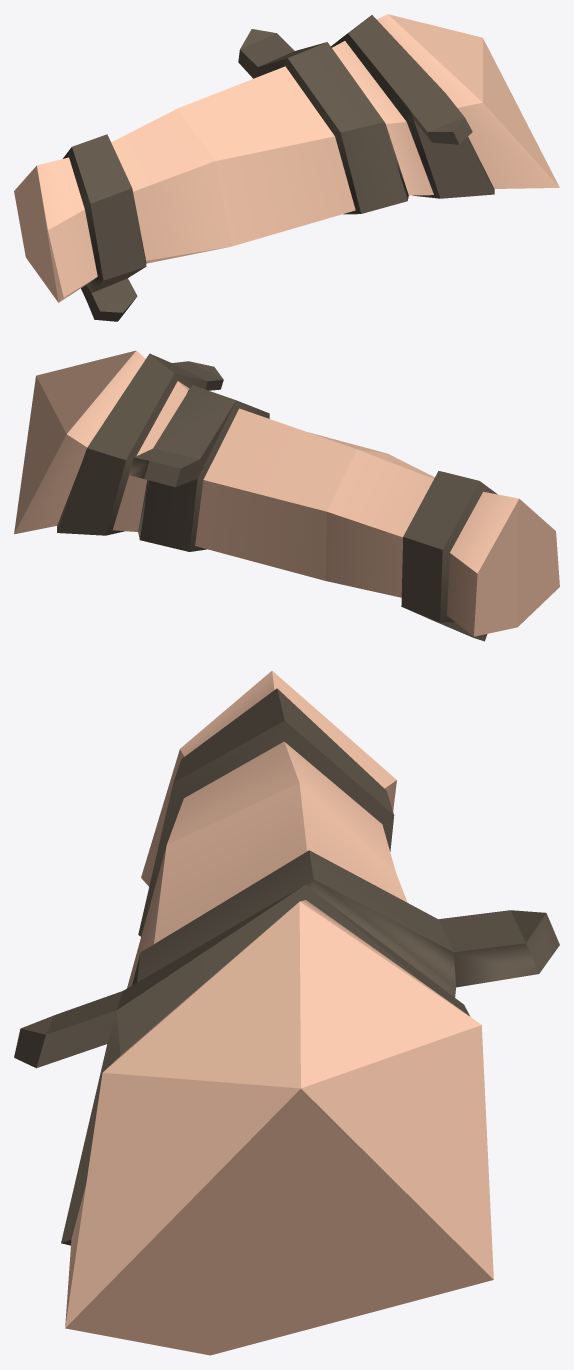
The model's file is Chr_ArmUpperRight_Female_03_Static.fbx.
The picture shows the model from 3 angles, top to bottom: view 1: azimuth 30°, elevation 25°; view 2: azimuth 150°, elevation 25°; view 3: azimuth 270°, elevation 25°; orthographic projection. The views are drawn at different scales.
Visible parts, largest first — view 1: Chr_ArmUpperRight_Female_03_Static; view 2: Chr_ArmUpperRight_Female_03_Static; view 3: Chr_ArmUpperRight_Female_03_Static.
Part boxes in pixels (x1,y1,x2,y2): Chr_ArmUpperRight_Female_03_Static: (14, 14, 559, 321); Chr_ArmUpperRight_Female_03_Static: (14, 350, 559, 641); Chr_ArmUpperRight_Female_03_Static: (14, 670, 559, 1355).
Size of the model in its own units: 0.3535 by 0.1527 by 0.1732.
